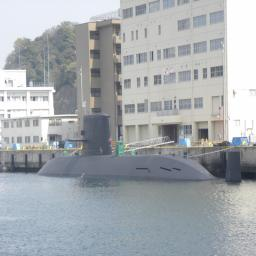submarine: (36, 109, 250, 180)
